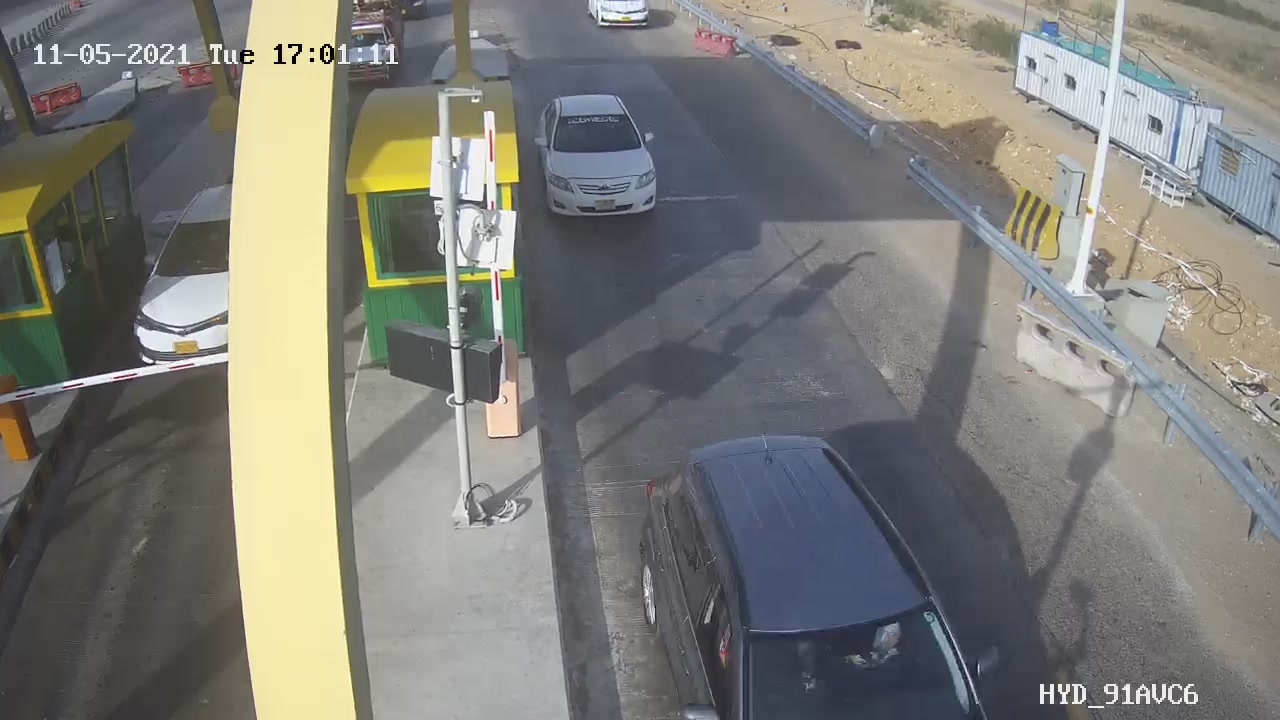F1: (520, 81, 686, 238)
